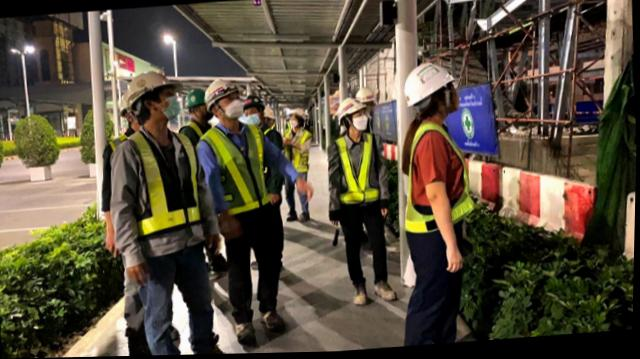helmet: (404, 60, 464, 108), (122, 69, 183, 105), (204, 78, 242, 106), (332, 97, 363, 124), (242, 93, 266, 112), (186, 88, 206, 108), (353, 89, 375, 103), (121, 96, 135, 116), (288, 105, 307, 116)
vest: (402, 122, 477, 234), (132, 127, 200, 233), (204, 126, 269, 213), (333, 137, 378, 205), (286, 123, 310, 173), (186, 119, 212, 140), (108, 135, 133, 152), (255, 123, 277, 135)
